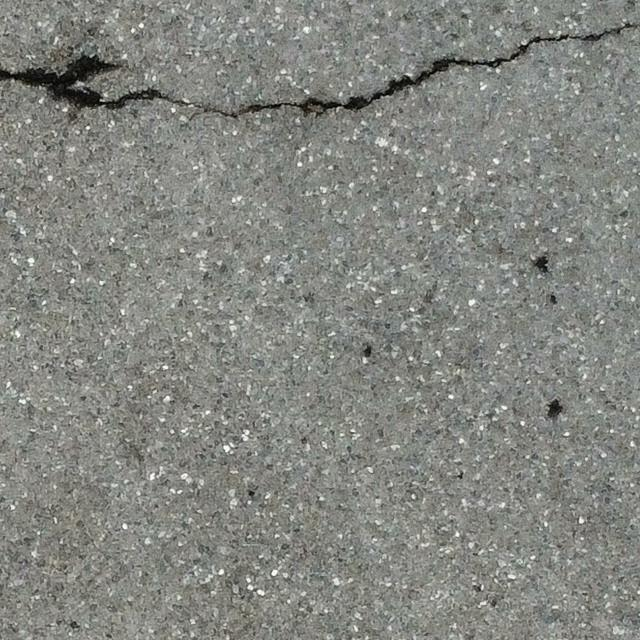TransverseCrack: (1, 20, 639, 118)
